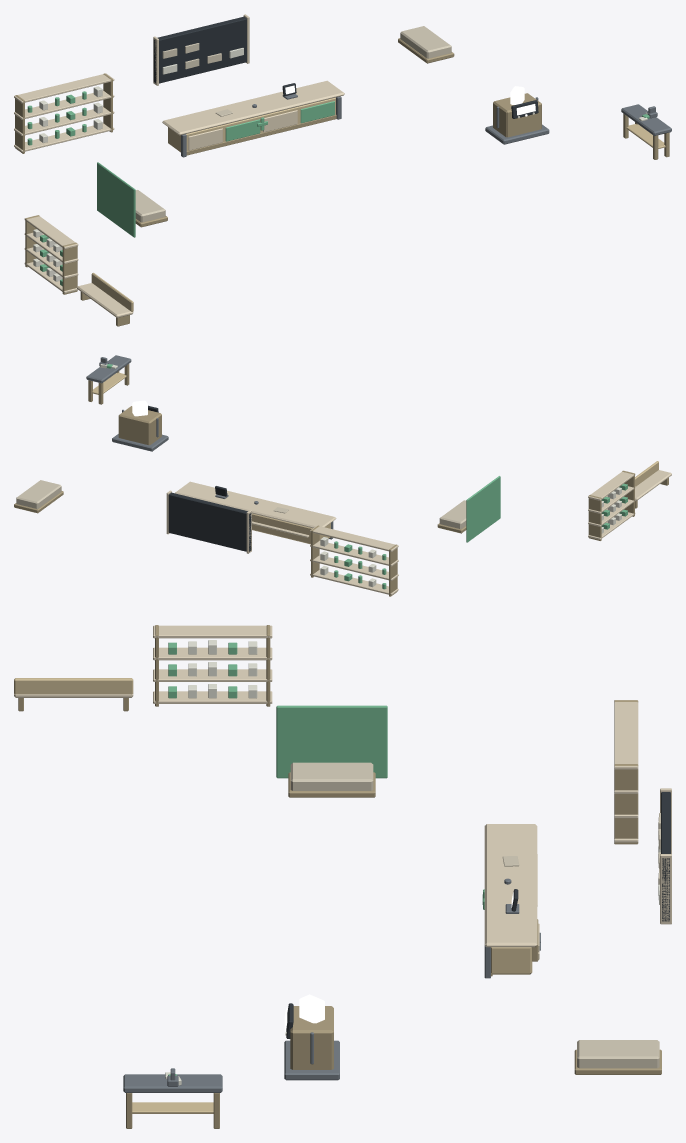
The model's file is greenlamp_walk_in_clinic.glb.
3 views of the same model, one above another, from view 1: azimuth 30°, elevation 25°; view 2: azimuth 150°, elevation 25°; view 3: azimuth 270°, elevation 25° (orthographic). The views are drawn at different scales.
Bounding box in the file's own units: 25.81 × 2.76 × 16.55.
